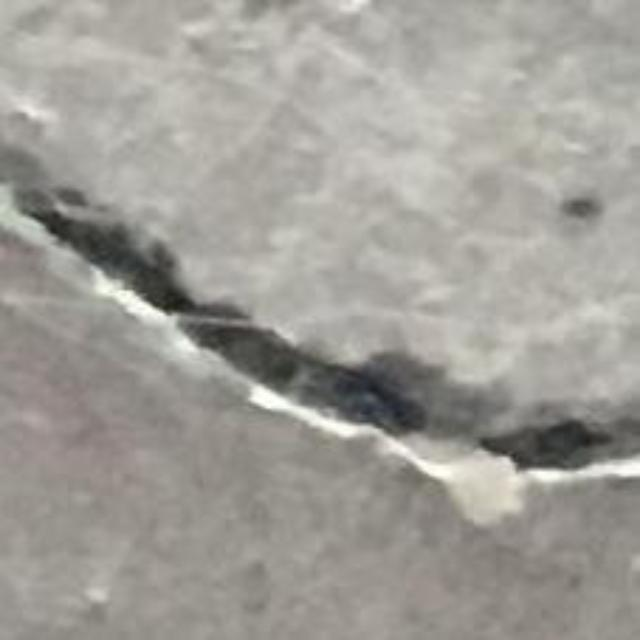crack: (0, 167, 639, 521)
